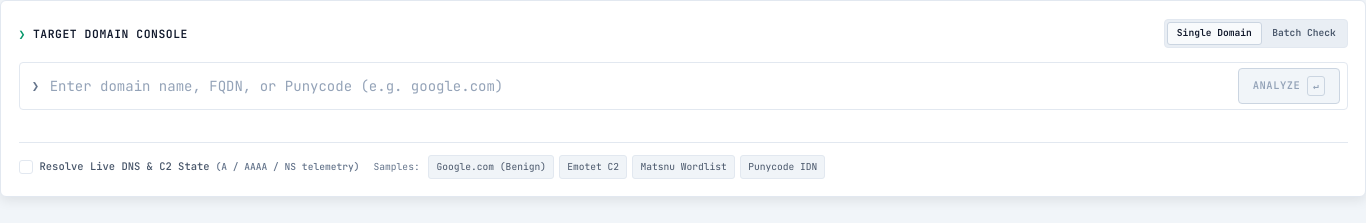
DomainInput validation feedback › shows a non-blocking warning for underscores
In the field with placeholder "Enter domain name, FQDN, or Punycode (e.g. google.com)": [638, 86] box [50, 76, 1227, 97], type "_dmarc.mysite.com"
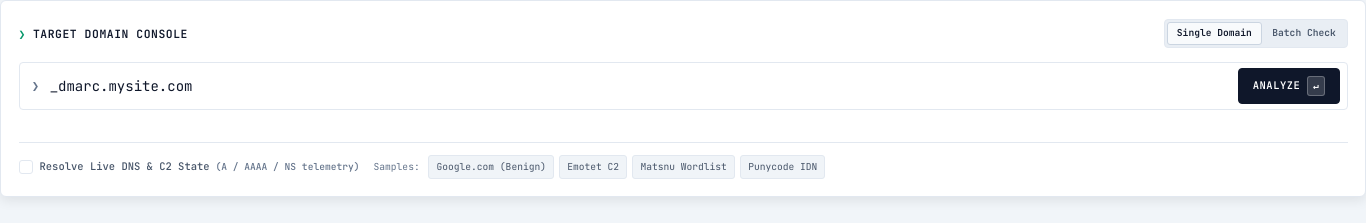
Leave the field with placeholder "Enter domain name, FQDN, or Punycode (e.g. google.com)", box [50, 76, 1227, 97]
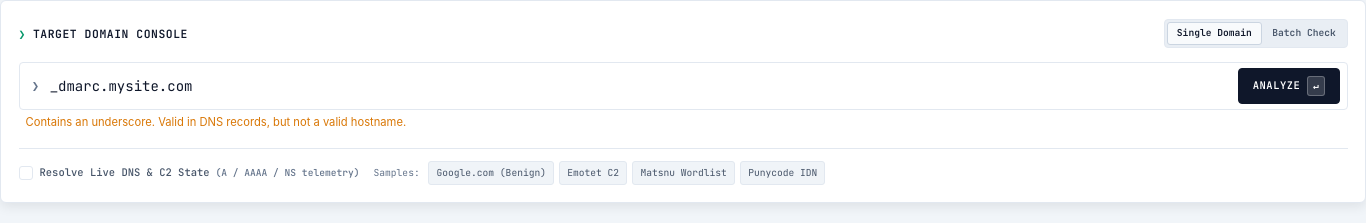
expect the button "Analyze ↵" is enabled: met, box [1238, 68, 1340, 104]
expect the text "not a valid hostname" is shown: met, box [26, 115, 406, 129]
